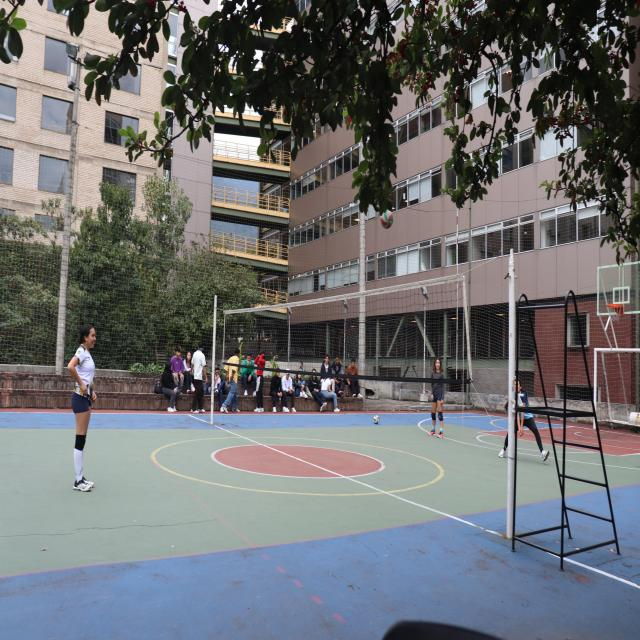volleyball: (380, 209, 394, 229), (373, 415, 380, 424)
